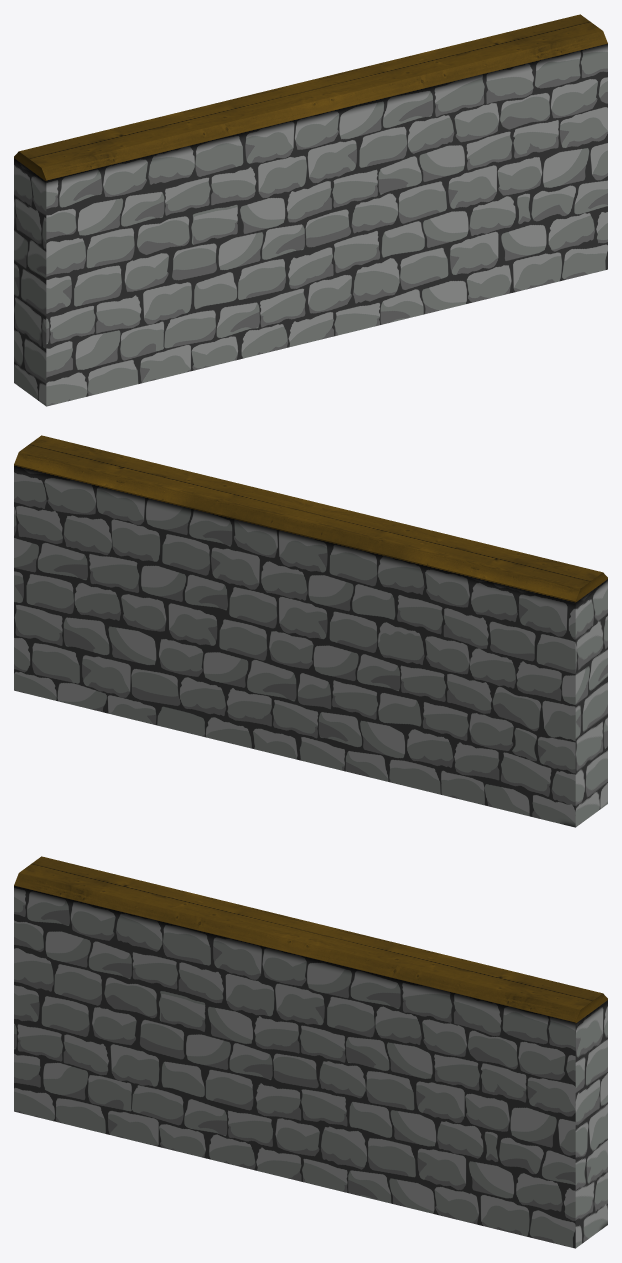
File: mod_wall_straight_a.fbx
3 views of the same model, one above another, from view 1: azimuth 30°, elevation 25°; view 2: azimuth 150°, elevation 25°; view 3: azimuth 330°, elevation 25° (orthographic).
Parts seen in each view (by area): view 1: pCube1; view 2: pCube1; view 3: pCube1.
Boxes of the visible parts, x1,y1,x2,y2 form: pCube1: [14, 14, 607, 406]; pCube1: [14, 435, 607, 827]; pCube1: [14, 856, 607, 1248].
Bounding box in the file's own units: 1300 × 520 × 130.
1 material, 1 textured.
